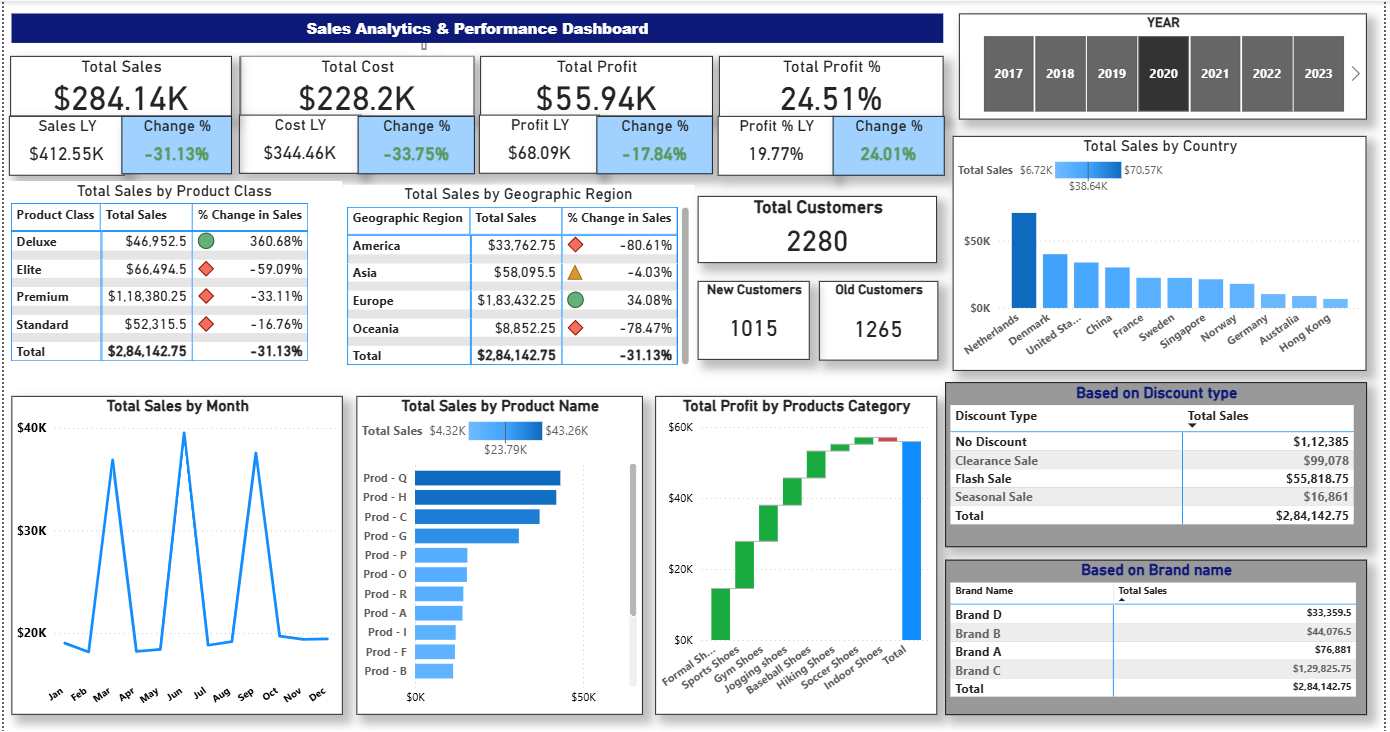

The page's visual inventory and layout, read from the dashboard file:
{"tool":"powerbi","page":{"name":"Sales Insights & Analysis","canvas":[1500,800],"ordinal":0},"visuals":[{"type":"slicer","title":"YEAR","fields":{"Values":["Calendar Table.Year"]},"box":[1038.1,13.5,443,115],"z":0},{"type":"card","title":"Total Sales","fields":{"Values":["ALL Measures.Total Sales"]},"box":[6.7,59.2,240.6,65.4],"z":0,"group":"g4"},{"type":"card","title":"Total Cost","fields":{"Values":["ALL Measures.Total Cost"]},"box":[257,59.2,254.3,65.2],"z":0,"group":"g1"},{"type":"card","title":"Total Profit","fields":{"Values":["ALL Measures.Total Profit"]},"box":[517.4,59.2,252.5,65.2],"z":0,"group":"g2"},{"type":"card","title":"Total Profit %","fields":{"Values":["ALL Measures.Total Profit %"]},"box":[777.7,59.2,244.1,66.1],"z":0,"group":"g3"},{"type":"group","id":"g1","title":"Group 1","box":[255.3,59.2,255.3,128.5],"z":1000},{"type":"card","title":"Cost LY","fields":{"Values":["ALL Measures.Cost LY"]},"box":[255.3,123.7,132.5,64.3],"z":1000,"group":"g1"},{"type":"card","title":"Profit LY","fields":{"Values":["ALL Measures.Profit Last Year"]},"box":[515.7,123.7,131.6,64.3],"z":1000,"group":"g2"},{"type":"card","title":"Sales LY","fields":{"Values":["ALL Measures.Sales LY"]},"box":[5.1,123.8,125.3,64.4],"z":1000,"group":"g4"},{"type":"card","title":"Profit % LY","fields":{"Values":["ALL Measures.Profit % LY"]},"box":[776,124.9,126.8,64.7],"z":1000,"group":"g3"},{"type":"group","id":"g2","title":"Group 1","box":[515.7,59.2,253.6,128.5],"z":2000},{"type":"card","title":"Change % ","fields":{"Values":["ALL Measures.% Change in Cost"]},"box":[384.2,124.4,127.2,63.4],"z":2000,"group":"g1"},{"type":"card","title":"Change % ","fields":{"Values":["ALL Measures.Change % in Profit"]},"box":[643.7,124.4,126.3,63.4],"z":2000,"group":"g2"},{"type":"card","title":"Change % ","fields":{"Values":["ALL Measures.% Change in Sales"]},"box":[127,124.6,120.3,63.5],"z":2000,"group":"g4"},{"type":"card","title":"Change % ","fields":{"Values":["ALL Measures.Change % Profit%"]},"box":[901.4,124.9,121.3,64.7],"z":2000,"group":"g3"},{"type":"group","id":"g3","title":"Group 1","box":[776,59.2,245.2,128.5],"z":3000},{"type":"areaChart","title":"Total Sales by Month","fields":{"Y":["ALL Measures.Total Sales"],"Category":["Calendar Table.Month Name"]},"box":[8.5,429.4,360.1,346.6],"z":4000},{"type":"group","id":"g4","title":"Group 1","box":[5.1,59.2,241.8,130.2],"z":5000},{"type":"pivotTable","title":"Total Sales by Product Class","fields":{"Rows":["Products Details.Product Class"],"Values":["ALL Measures.Total Sales","ALL Measures.% Change in Sales"]},"box":[3.4,196.1,365.2,219.8],"z":6000},{"type":"pivotTable","title":"Total Sales by Geographic Region","fields":{"Values":["ALL Measures.Total Sales","ALL Measures.% Change in Sales"],"Rows":["Location Details.Geographic Region"]},"box":[368.6,199.5,382.1,201.2],"z":7000},{"type":"card","title":"Total Customers","fields":{"Values":["ALL Measures.Total Customers"]},"box":[754.1,211.3,260.4,72.7],"z":8000},{"type":"card","title":"Old Customers","fields":{"Values":["ALL Measures.Old Customers"]},"box":[885.6,304.3,129.3,86.7],"z":9000},{"type":"card","title":"New Customers","fields":{"Values":["ALL Measures.New Customers"]},"box":[754.7,304.3,121.7,85.2],"z":10000},{"type":"clusteredBarChart","fields":{"Y":["ALL Measures.Total Sales"],"Category":["Products Details.Product Name"]},"box":[383.8,429.4,311.1,346.6],"z":11000},{"type":"columnChart","fields":{"Y":["ALL Measures.Total Sales"],"Category":["Location Details.Country"]},"box":[1031.3,147.1,449.7,255.3],"z":12000},{"type":"waterfallChart","fields":{"Category":["Products Details.Products Category"],"Y":["ALL Measures.Total Profit"]},"box":[708.4,429.4,306,346.6],"z":13000},{"type":"pivotTable","title":"Based on Discount type","fields":{"Rows":["Discount Details.Discount Type"],"Values":["ALL Measures.Total Sales"]},"box":[1022.9,414.2,458.2,179.2],"z":14000},{"type":"pivotTable","title":"Based on Brand name","fields":{"Values":["ALL Measures.Total Sales"],"Rows":["Products Details.Brand Name"]},"box":[1022.9,607,458.2,169.1],"z":15000},{"type":"textbox","box":[8.5,0,1006,45.6],"z":16000},{"type":"textbox","box":[8.5,13.5,1012.8,32.1],"z":16001}]}

Visuals, with their boxes in screenshot pixels (x1, y1, x2, y2), scaled from the page's 1500x800 canvas onto the 1390x732 screenshot:
"YEAR" slicer: [left=962, top=12, right=1372, bottom=118]
"Total Sales" card: [left=6, top=54, right=229, bottom=114]
"Total Cost" card: [left=238, top=54, right=474, bottom=114]
"Total Profit" card: [left=479, top=54, right=713, bottom=114]
"Total Profit %" card: [left=721, top=54, right=947, bottom=115]
"Group 1" group: [left=237, top=54, right=473, bottom=172]
"Cost LY" card: [left=237, top=113, right=359, bottom=172]
"Profit LY" card: [left=478, top=113, right=600, bottom=172]
"Sales LY" card: [left=5, top=113, right=121, bottom=172]
"Profit % LY" card: [left=719, top=114, right=837, bottom=173]
"Group 1" group: [left=478, top=54, right=713, bottom=172]
"Change % " card: [left=356, top=114, right=474, bottom=172]
"Change % " card: [left=596, top=114, right=714, bottom=172]
"Change % " card: [left=118, top=114, right=229, bottom=172]
"Change % " card: [left=835, top=114, right=948, bottom=173]
"Group 1" group: [left=719, top=54, right=946, bottom=172]
"Total Sales by Month" areaChart: [left=8, top=393, right=342, bottom=710]
"Group 1" group: [left=5, top=54, right=229, bottom=173]
"Total Sales by Product Class" pivotTable: [left=3, top=179, right=342, bottom=381]
"Total Sales by Geographic Region" pivotTable: [left=342, top=183, right=696, bottom=367]
"Total Customers" card: [left=699, top=193, right=940, bottom=260]
"Old Customers" card: [left=821, top=278, right=940, bottom=358]
"New Customers" card: [left=699, top=278, right=812, bottom=356]
clusteredBarChart - ALL Measures.Total Sales x Products Details.Product Name: [left=356, top=393, right=644, bottom=710]
columnChart - ALL Measures.Total Sales x Location Details.Country: [left=956, top=135, right=1372, bottom=368]
waterfallChart - Products Details.Products Category x ALL Measures.Total Profit: [left=656, top=393, right=940, bottom=710]
"Based on Discount type" pivotTable: [left=948, top=379, right=1372, bottom=543]
"Based on Brand name" pivotTable: [left=948, top=555, right=1372, bottom=710]
textbox: [left=8, top=0, right=940, bottom=42]
textbox: [left=8, top=12, right=946, bottom=42]
